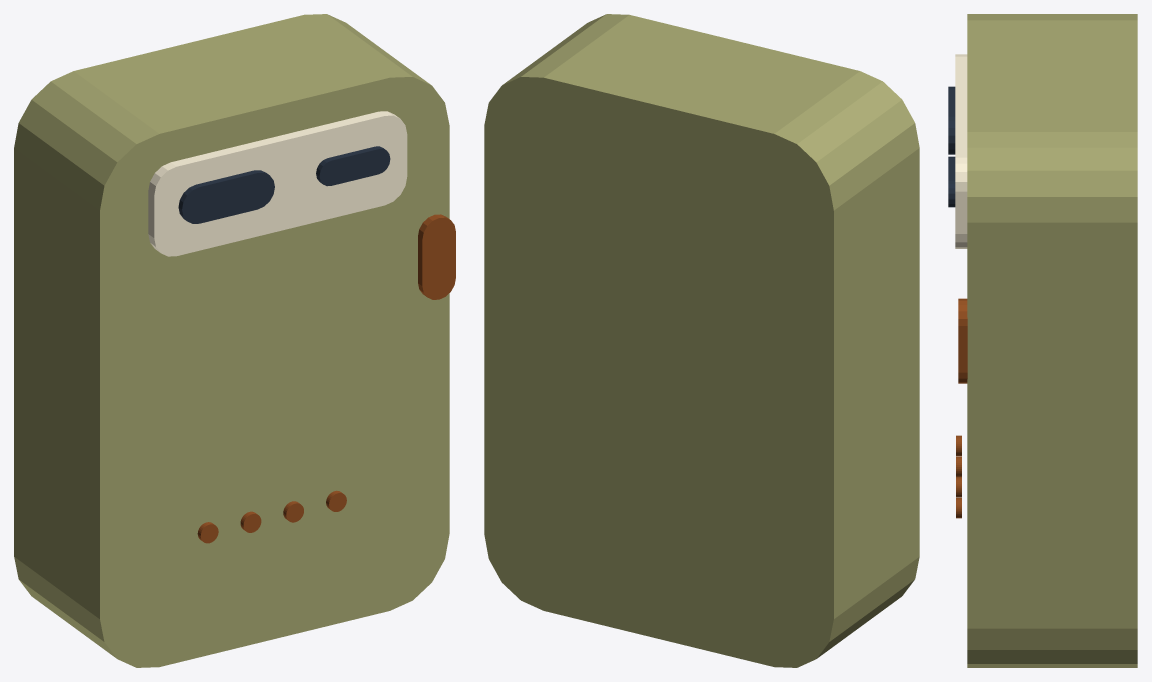
File: powerbank.glb
3 renders of one model, left to right at view 1: azimuth 30°, elevation 25°; view 2: azimuth 150°, elevation 25°; view 3: azimuth 270°, elevation 25°, orthographic.
Visible parts, largest first — view 1: body, port panel, port usb a, power key, port usb c; view 2: body; view 3: body, port panel, power key, port usb a, port usb c.
Boxes of the visible parts, x1,y1,x2,y2 form: body: [14, 14, 449, 667]; port panel: [148, 111, 407, 256]; port usb a: [178, 170, 274, 223]; power key: [418, 214, 455, 299]; port usb c: [316, 146, 390, 186]; body: [484, 14, 919, 667]; body: [967, 14, 1137, 667]; port panel: [955, 54, 967, 248]; power key: [958, 298, 967, 383]; port usb a: [948, 86, 955, 154]; port usb c: [948, 156, 955, 207].
Size of the model in its own units: 0.945 by 1.37 by 0.4445.
